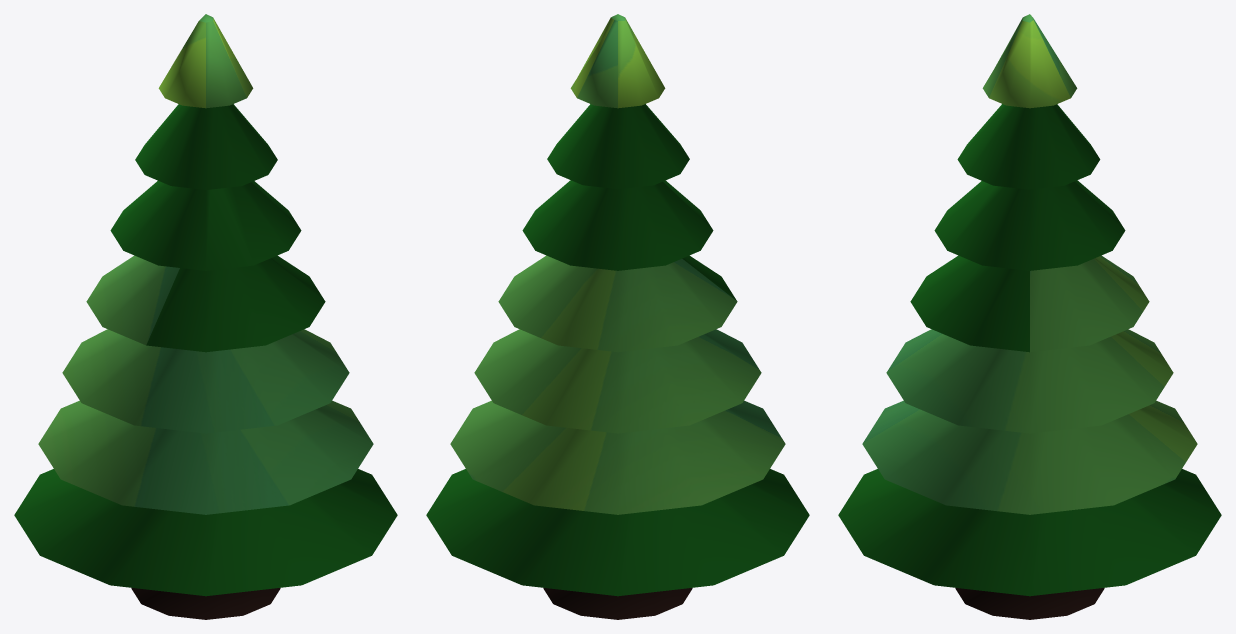
The model's file is tree.FBX.
3 views of the same model, side by side, from view 1: azimuth 30°, elevation 25°; view 2: azimuth 150°, elevation 25°; view 3: azimuth 270°, elevation 25° (orthographic).
Parts seen in each view (by area): view 1: trees007; view 2: trees007; view 3: trees007.
Part boxes in pixels (x1,y1,x2,y2): trees007: [14, 14, 397, 619]; trees007: [426, 14, 809, 619]; trees007: [838, 14, 1221, 619].
Bounding box in the file's own units: 2.29 × 3.78 × 2.29.
3 materials, 1 textured.
